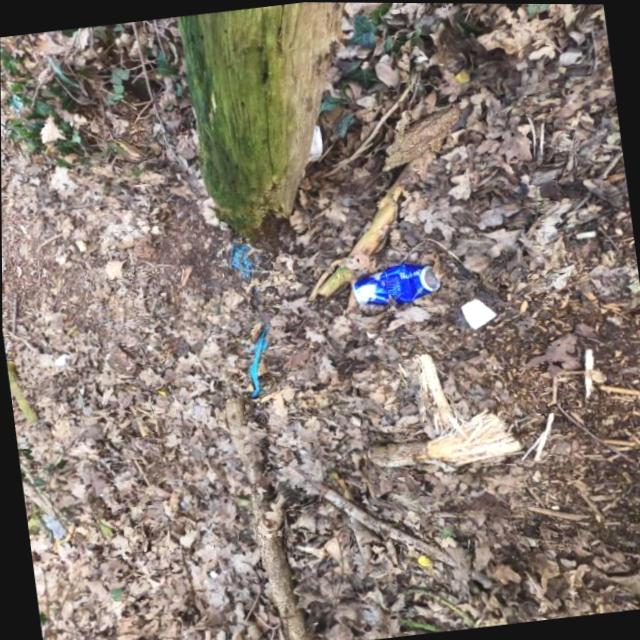Can-Metal: (335, 254, 451, 318)
